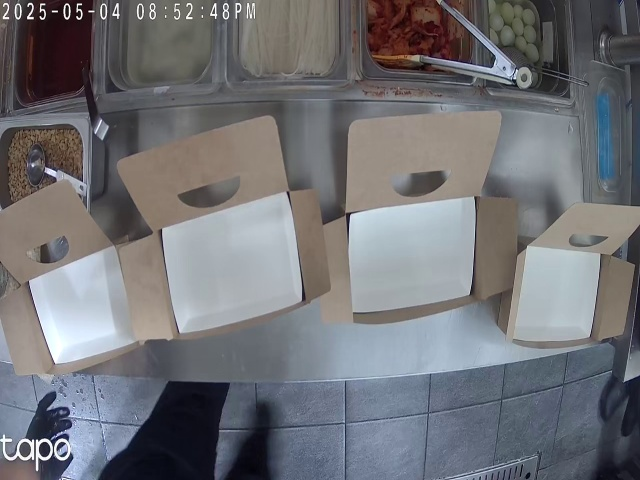delivery box: (318, 106, 507, 333), (109, 142, 322, 319), (2, 192, 138, 375), (522, 191, 634, 351)
hand: (24, 401, 76, 480)
